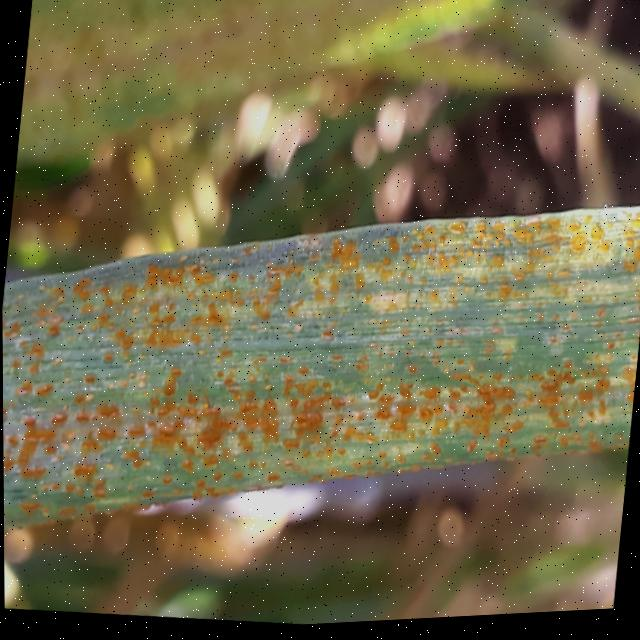orang_rust: (1, 135, 640, 602)
